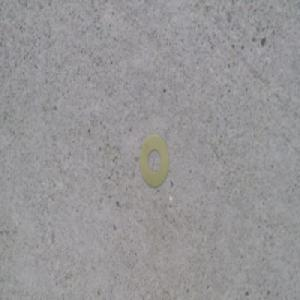Washer: (141, 135, 170, 187)
